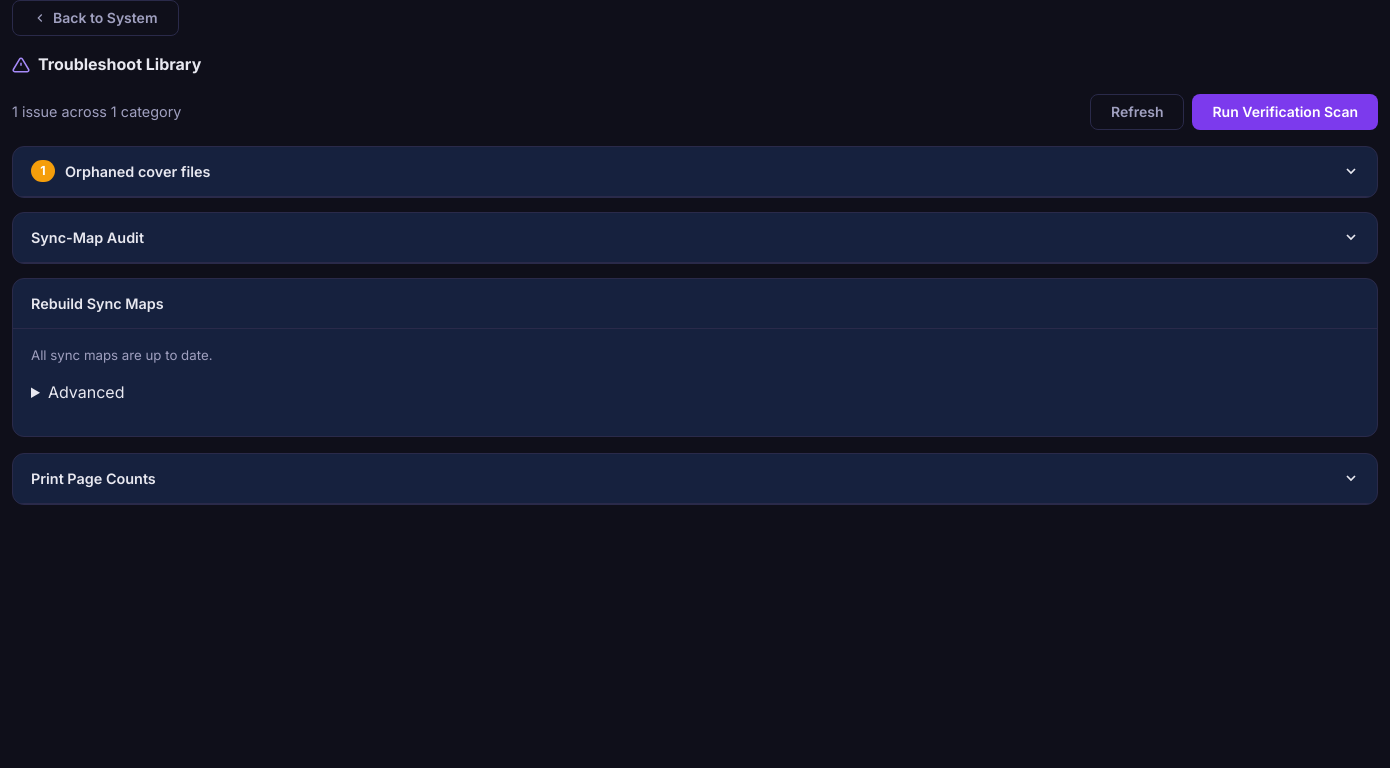
Test: TroubleshootPage chapter encoding repair › shows "Delete Selected" (not "Repair Selected") for a non-repair selectable category
Click the heading "1 Orphaned cover files" at (121, 171), box [31, 160, 210, 182]
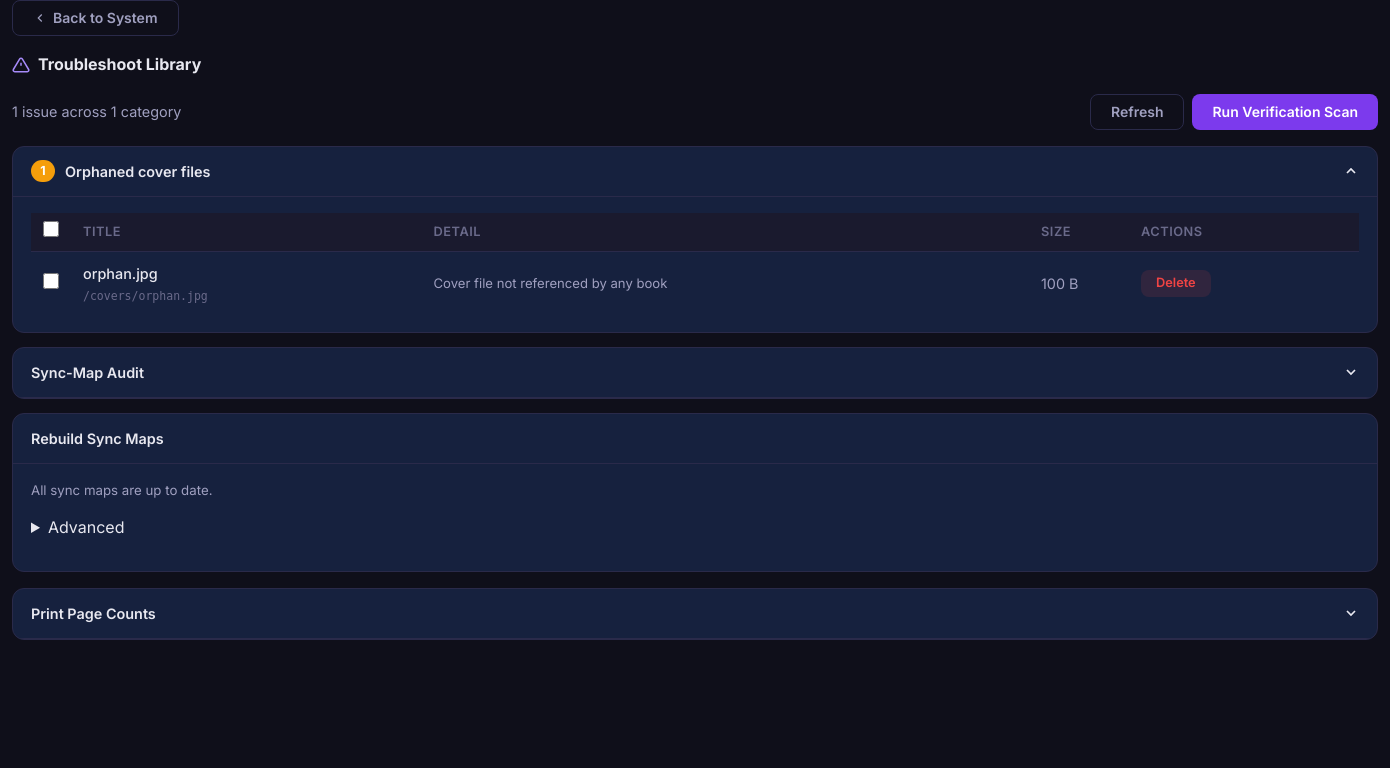
Click the 2nd checkbox at (51, 281), box [43, 273, 59, 289]
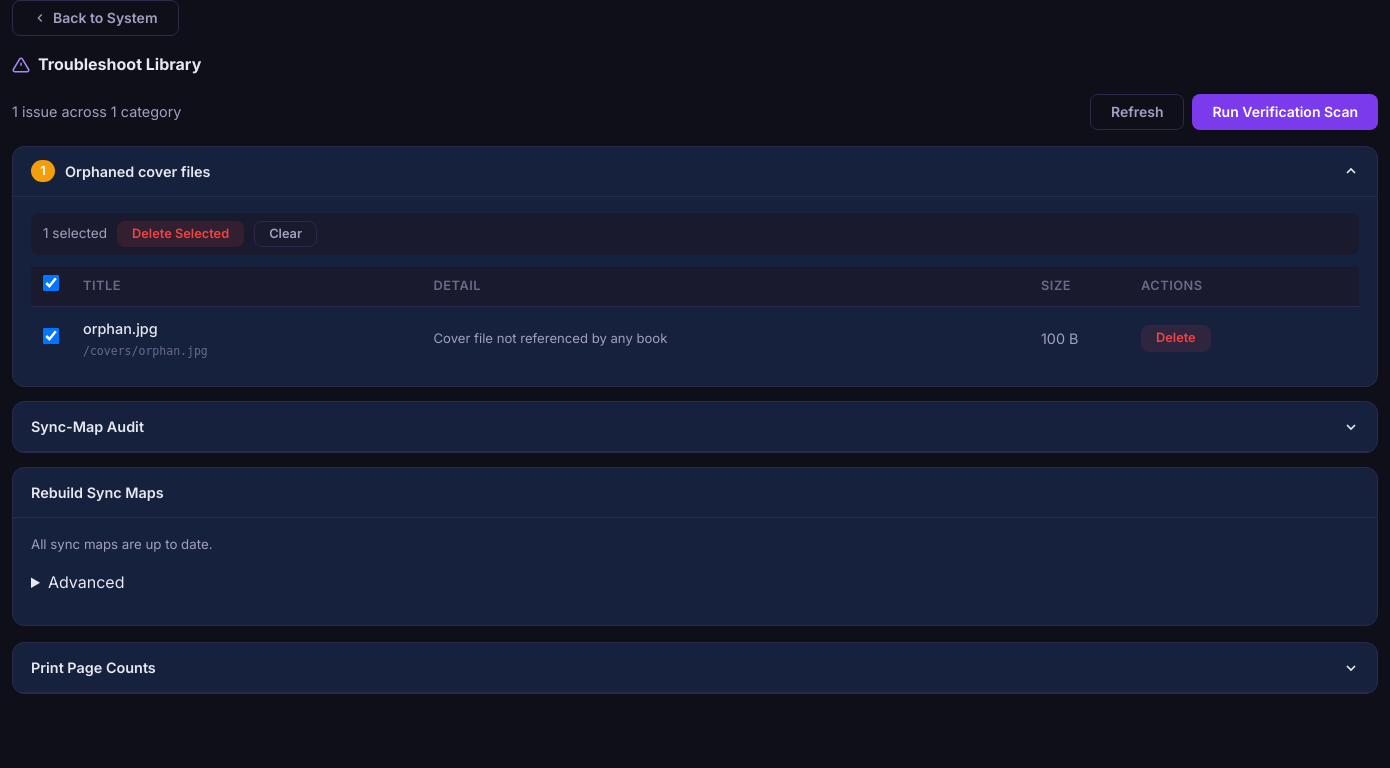
Check: the button "Delete Selected" is shown, box [117, 221, 244, 247]
